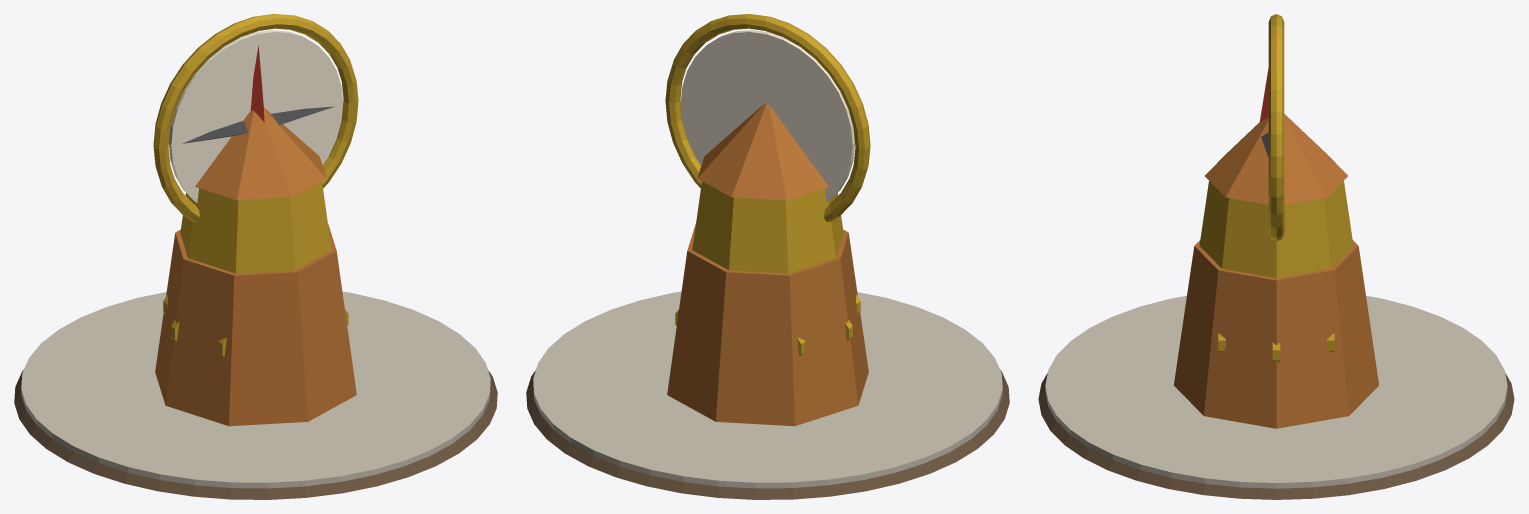
File: clockwork-compass.glb
3 renders of one model, left to right at view 1: azimuth 30°, elevation 25°; view 2: azimuth 150°, elevation 25°; view 3: azimuth 270°, elevation 25°, orthographic.
Visible parts, largest first — view 1: clockwork-compass; view 2: clockwork-compass; view 3: clockwork-compass.
Boxes of the visible parts, x1,y1,x2,y2 form: clockwork-compass: [14, 14, 497, 499]; clockwork-compass: [526, 14, 1009, 499]; clockwork-compass: [1038, 14, 1514, 499].
Bounding box in the file's own units: 1.15 × 1 × 1.15.
